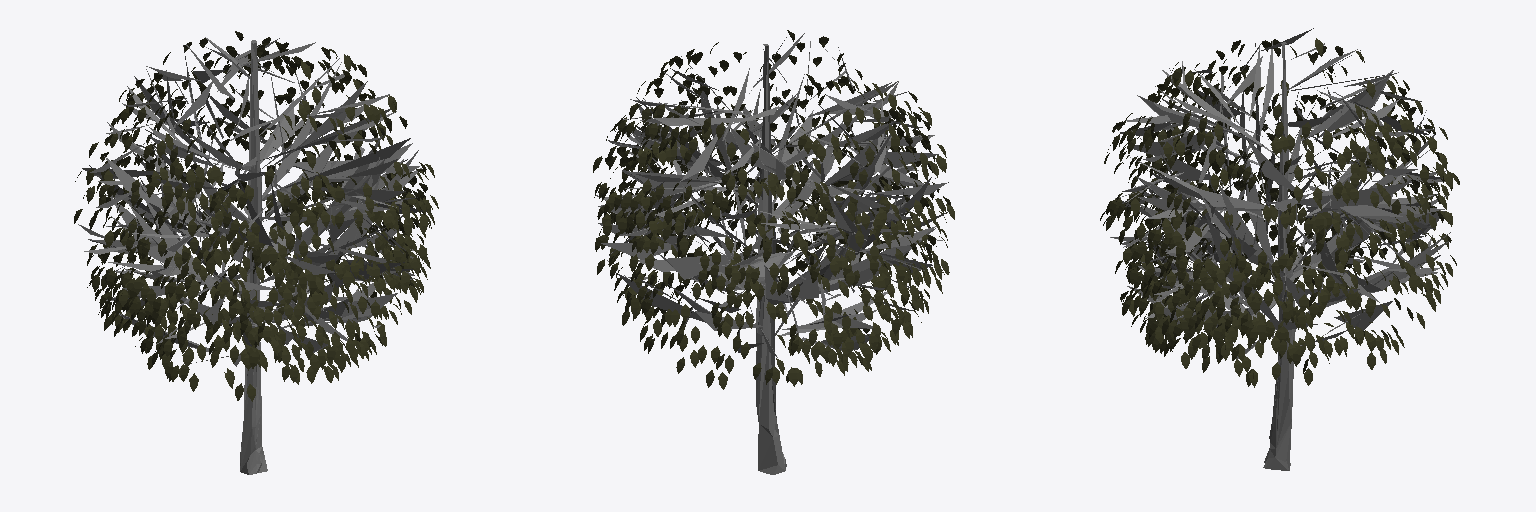
Rendered from tree_mq.obj.
The picture shows the model from 3 angles: view 1: azimuth 30°, elevation 25°; view 2: azimuth 150°, elevation 25°; view 3: azimuth 270°, elevation 25°; orthographic projection.
Visible parts, largest first — view 1: Material__35, L1; view 2: Material__35, L1; view 3: Material__35, L1.
Boxes of the visible parts, box(x1,y1,x2,y2) form: Material__35: box(78, 37, 431, 474); L1: box(74, 31, 438, 400); Material__35: box(596, 30, 954, 474); L1: box(593, 36, 950, 387); Material__35: box(1110, 28, 1458, 470); L1: box(1100, 38, 1459, 387).
Bounding box in the file's own units: 113 × 146 × 111.